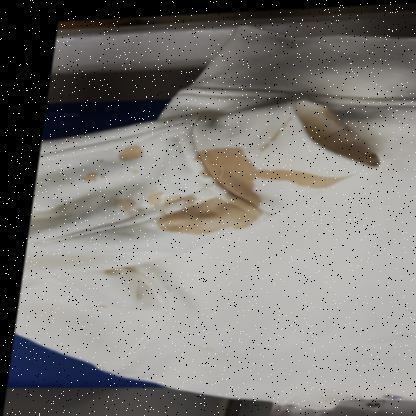coffee: (161, 202, 252, 231), (210, 154, 250, 187), (250, 169, 323, 186), (120, 145, 142, 161)
